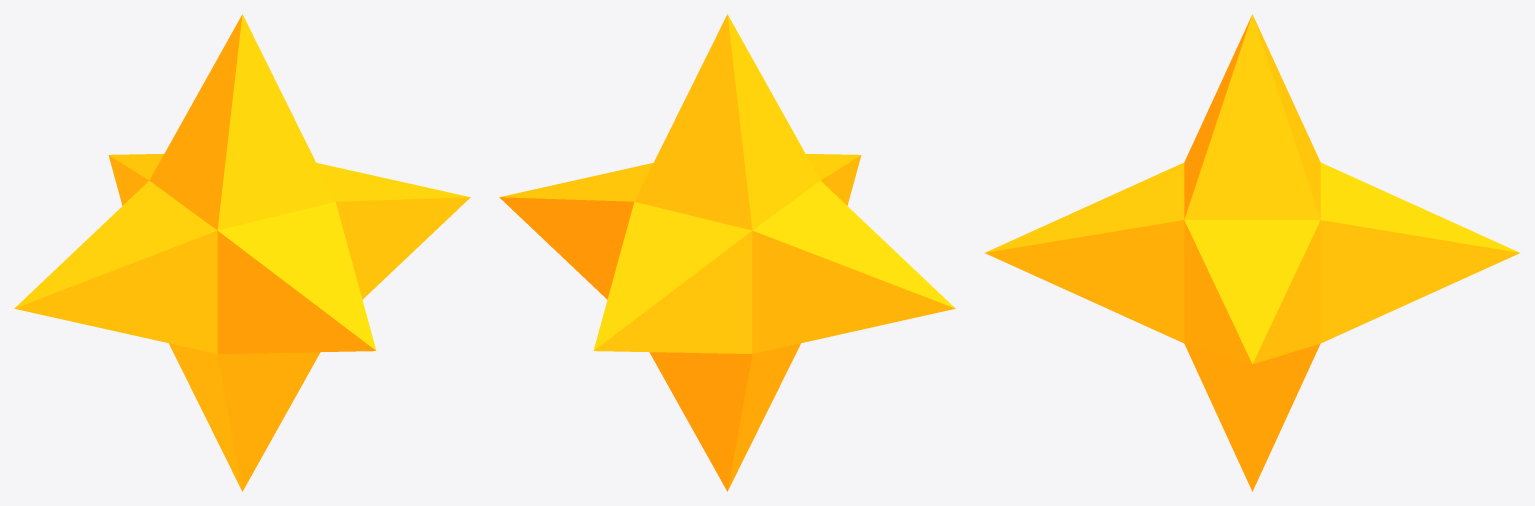
Rendered from powerup_star.glb.
The picture shows the model from 3 angles, left to right: view 1: azimuth 30°, elevation 25°; view 2: azimuth 150°, elevation 25°; view 3: azimuth 270°, elevation 25°; orthographic projection.
Parts seen in each view (by area): view 1: Star; view 2: Star; view 3: Star.
Boxes of the visible parts, bbox=[...] form: Star: bbox=[14, 14, 470, 491]; Star: bbox=[499, 14, 955, 491]; Star: bbox=[985, 14, 1519, 491].
Bounding box in the file's own units: 0.4071 × 0.4071 × 0.4138.
1 material, 1 textured.
